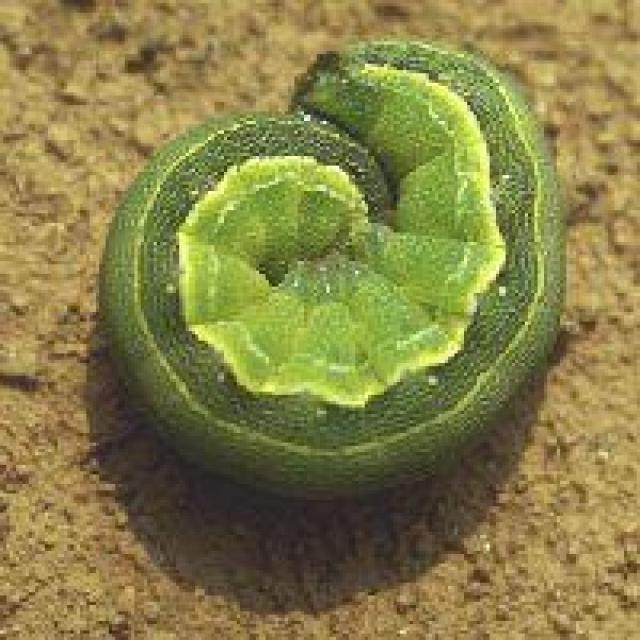BeetArmyWorm-Larva-: (78, 24, 595, 492)
